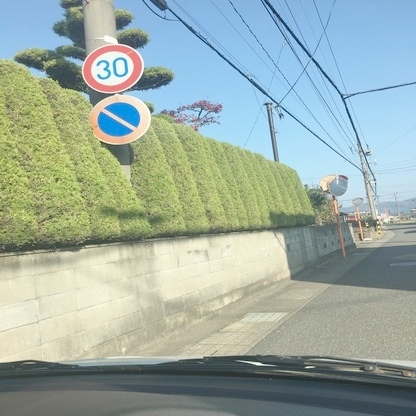Prohibition_sign: (93, 99, 155, 151)
Speed_sign: (79, 40, 149, 98)
